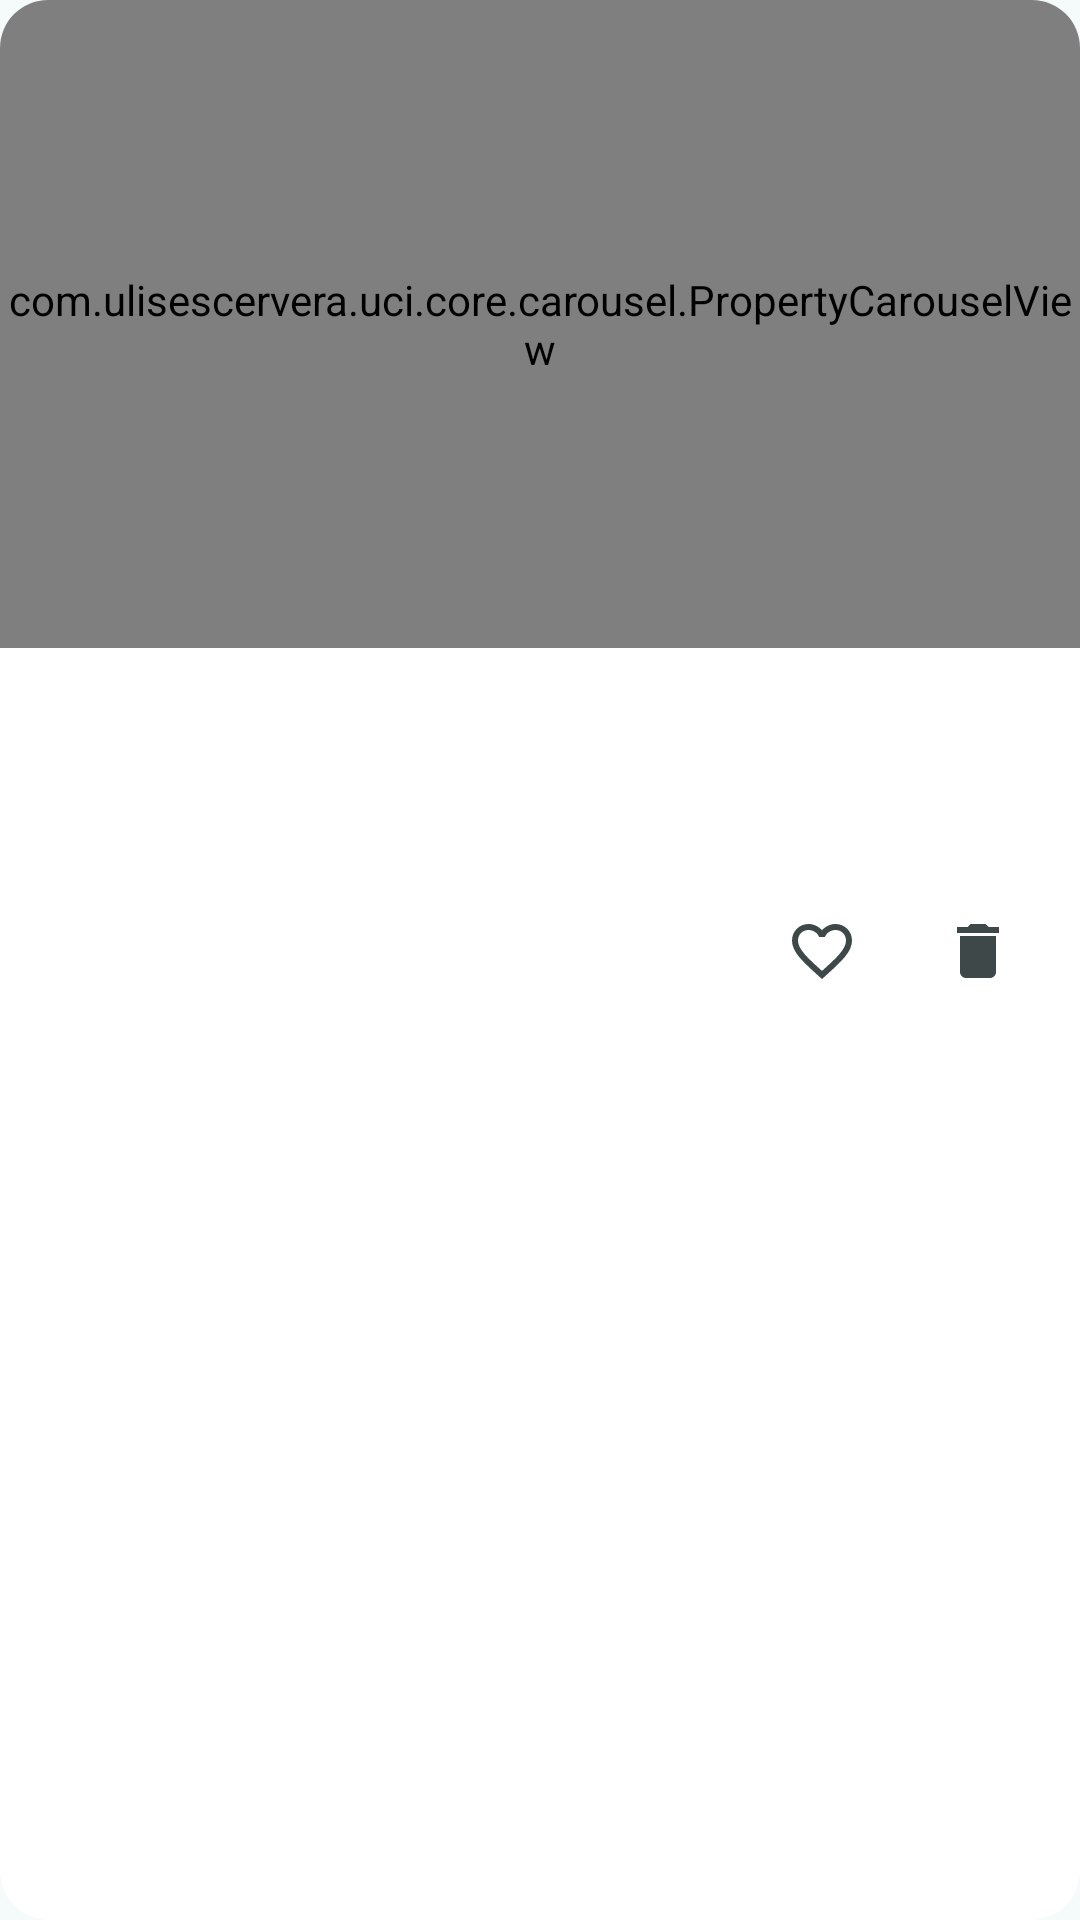

Where to tap for icons on this 1080w x 1920h app screen, as [x,y]:
Borrar del listado: [978,951]
uci favourite: [822,951]
